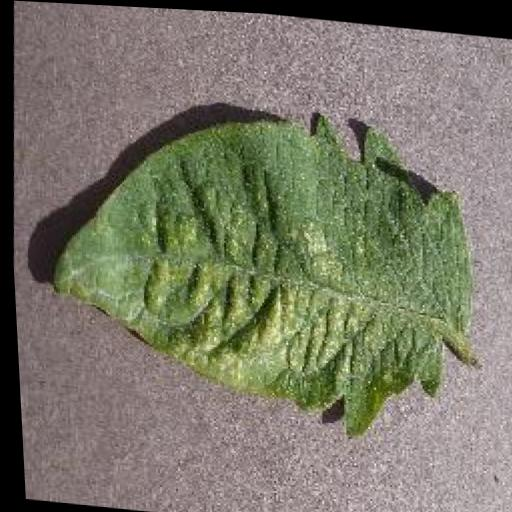Spider Mites: (34, 89, 482, 445)
